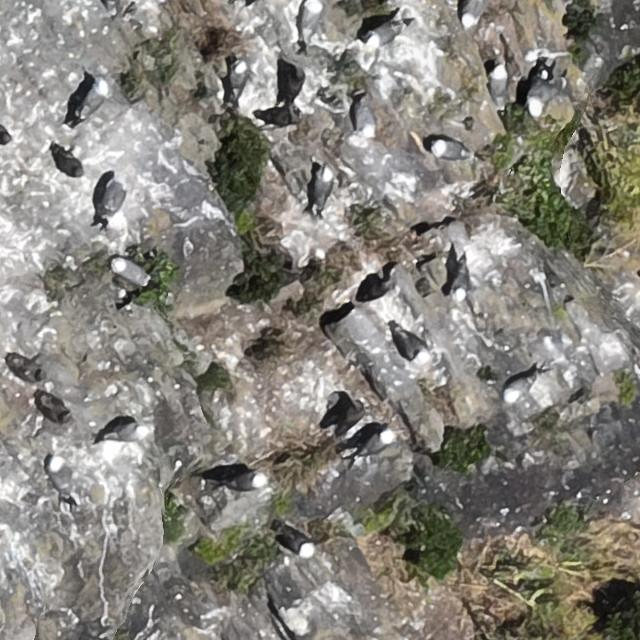umineko: (94, 168, 131, 225), (528, 68, 554, 120), (500, 372, 539, 405), (449, 260, 474, 306), (396, 332, 427, 361), (82, 81, 107, 114), (365, 21, 397, 45), (115, 261, 148, 284), (491, 65, 509, 105), (285, 534, 315, 557), (362, 431, 391, 454), (57, 152, 83, 177), (313, 169, 331, 205), (226, 473, 262, 491), (432, 140, 466, 158), (358, 104, 376, 138), (301, 2, 319, 34), (463, 1, 484, 28), (110, 424, 143, 441), (230, 62, 245, 92), (49, 458, 63, 487)
